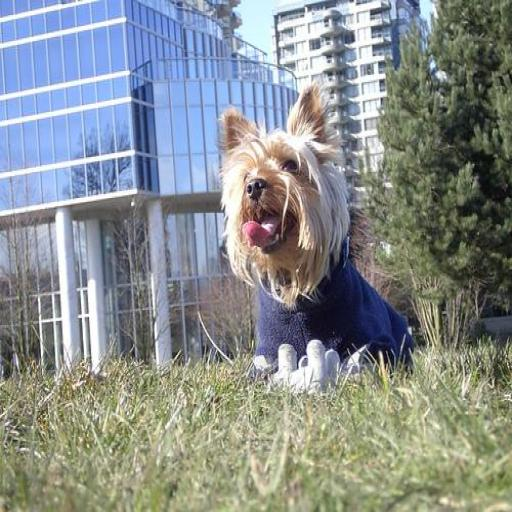dog_face: (218, 93, 336, 278)
